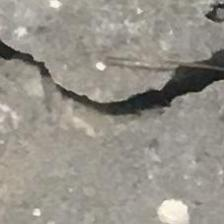Crack: (0, 29, 224, 123)
